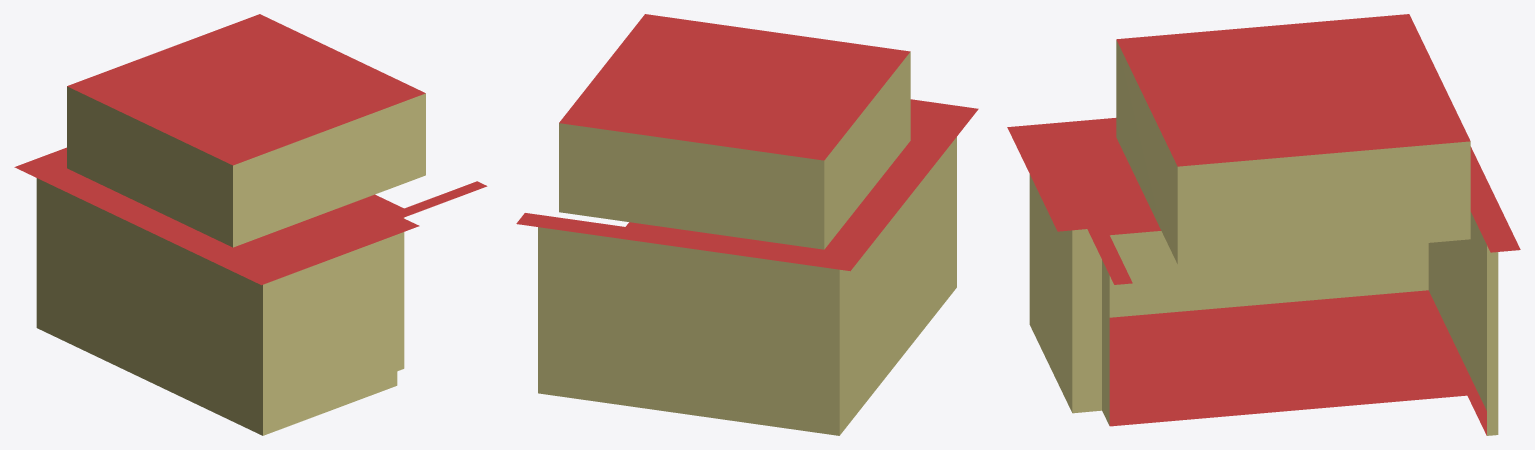
3 views of the same model, side by side, from view 1: azimuth 30°, elevation 25°; view 2: azimuth 150°, elevation 25°; view 3: azimuth 270°, elevation 25° (orthographic). The views are drawn at different scales.
Bounding box in the file's own units: 12.17 × 13.51 × 8.39.
